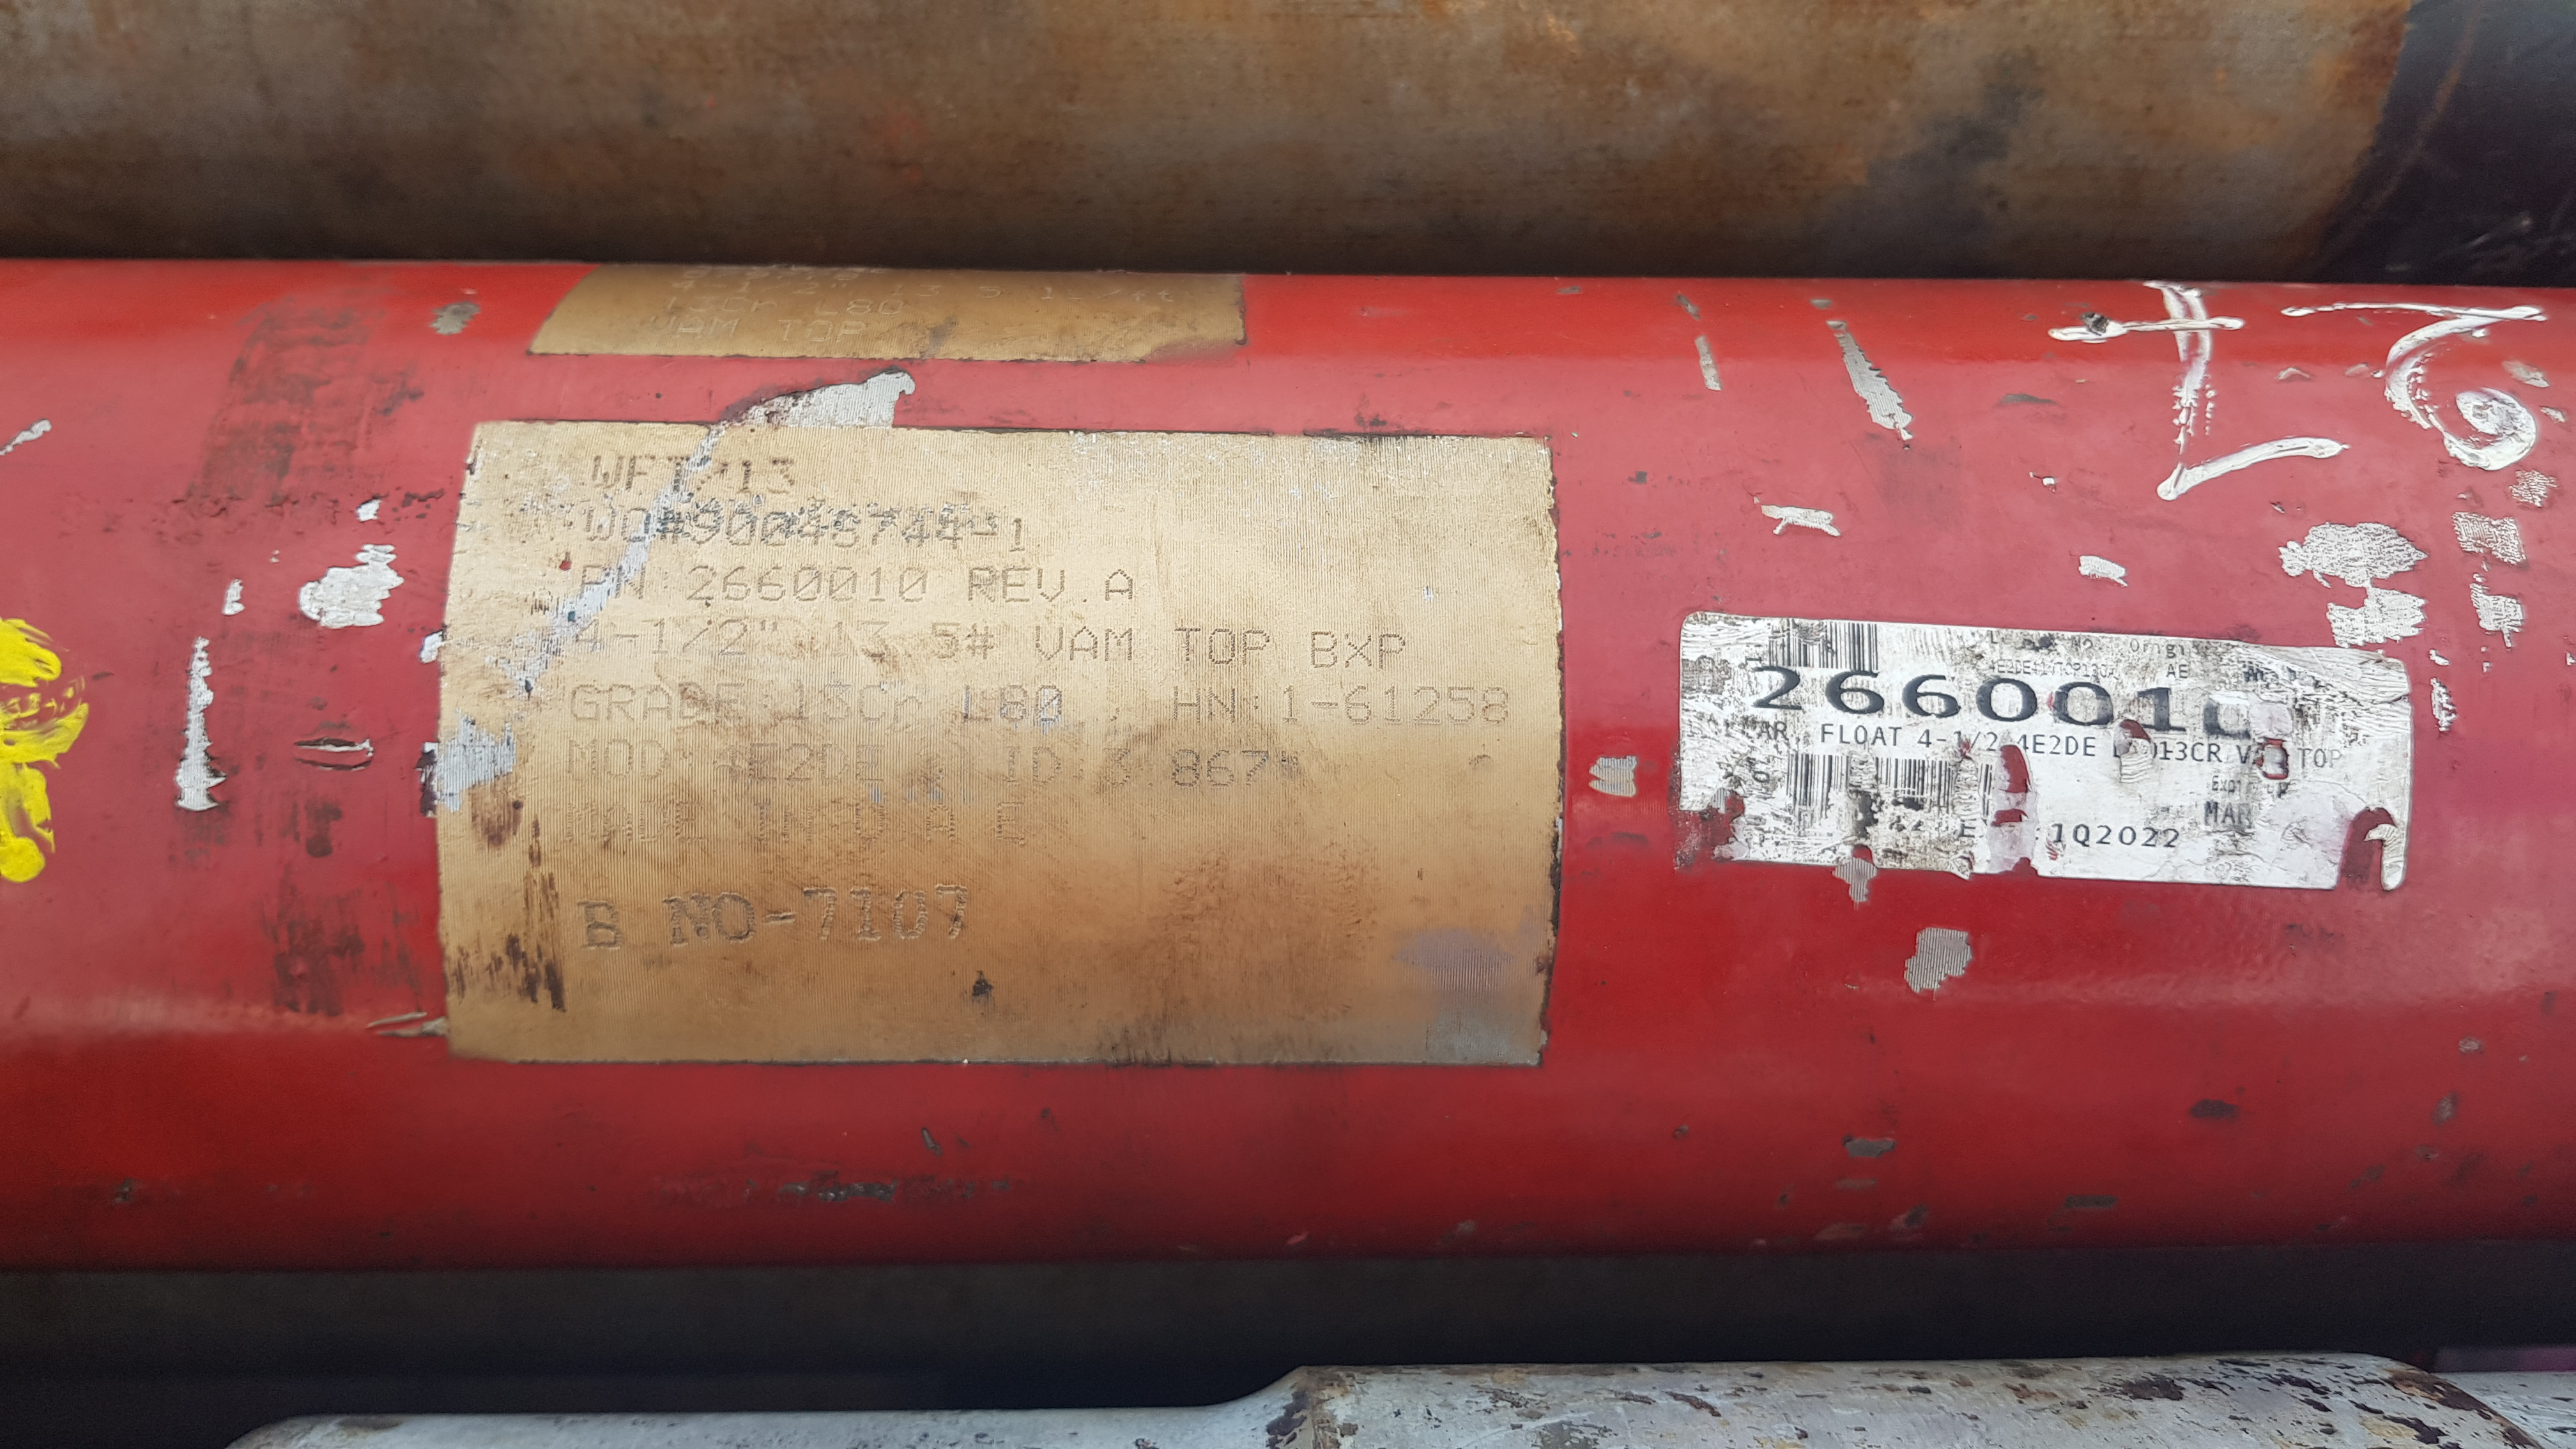character: (566, 888, 630, 955), (888, 879, 936, 950), (934, 870, 975, 947), (665, 888, 711, 955), (584, 444, 628, 504), (713, 888, 757, 948), (984, 801, 1035, 853), (803, 881, 844, 938), (849, 883, 885, 947), (564, 793, 605, 847), (637, 683, 681, 731), (747, 734, 780, 796), (1028, 619, 1072, 665), (849, 798, 890, 847), (1099, 566, 1139, 614), (605, 798, 639, 855), (1203, 681, 1238, 734), (563, 736, 605, 780), (920, 801, 962, 846), (706, 736, 745, 784), (1030, 681, 1067, 731), (676, 679, 711, 731), (816, 740, 851, 791), (1474, 681, 1513, 727), (780, 803, 819, 849), (708, 676, 745, 724), (832, 508, 867, 557), (1410, 681, 1445, 731), (1028, 745, 1063, 794), (635, 798, 667, 853), (637, 734, 671, 786), (1100, 740, 1134, 791), (1102, 621, 1139, 667), (1307, 625, 1343, 672), (662, 449, 695, 499), (612, 561, 651, 603), (927, 621, 966, 663), (787, 740, 819, 791), (899, 563, 934, 609), (1000, 566, 1035, 612), (603, 681, 639, 727), (586, 502, 619, 550), (886, 695, 925, 736), (1033, 566, 1070, 609), (718, 619, 754, 663), (860, 617, 895, 662), (603, 736, 639, 780), (671, 800, 706, 844), (761, 508, 794, 554), (1237, 743, 1270, 789), (623, 502, 655, 550), (1171, 747, 1203, 794), (568, 679, 605, 720), (828, 564, 863, 607), (752, 796, 778, 853), (819, 681, 853, 725), (1171, 685, 1205, 729), (656, 504, 688, 550), (727, 506, 759, 552), (902, 506, 934, 552), (964, 563, 996, 609), (1447, 681, 1479, 727), (793, 510, 828, 550), (768, 451, 798, 499), (1242, 625, 1272, 672), (791, 566, 824, 609), (1272, 683, 1306, 725), (626, 449, 658, 494), (694, 504, 725, 548), (865, 568, 897, 612), (1375, 628, 1407, 672), (998, 681, 1026, 731), (575, 614, 605, 660), (1378, 685, 1408, 731), (1341, 628, 1375, 669), (1072, 623, 1104, 665), (947, 681, 978, 724), (1343, 679, 1371, 727), (759, 563, 789, 607), (1173, 623, 1203, 667), (1207, 623, 1237, 667), (579, 561, 607, 607), (725, 561, 754, 607), (787, 679, 816, 725), (686, 563, 718, 603), (938, 510, 968, 552), (856, 683, 886, 725), (870, 506, 897, 554), (1208, 743, 1235, 791), (679, 621, 713, 656), (853, 741, 883, 780), (734, 455, 759, 501), (830, 617, 855, 663), (1000, 743, 1024, 787), (1008, 513, 1035, 554), (655, 616, 679, 658), (763, 904, 803, 929), (1311, 692, 1343, 720), (614, 625, 640, 653), (971, 524, 1000, 545)
